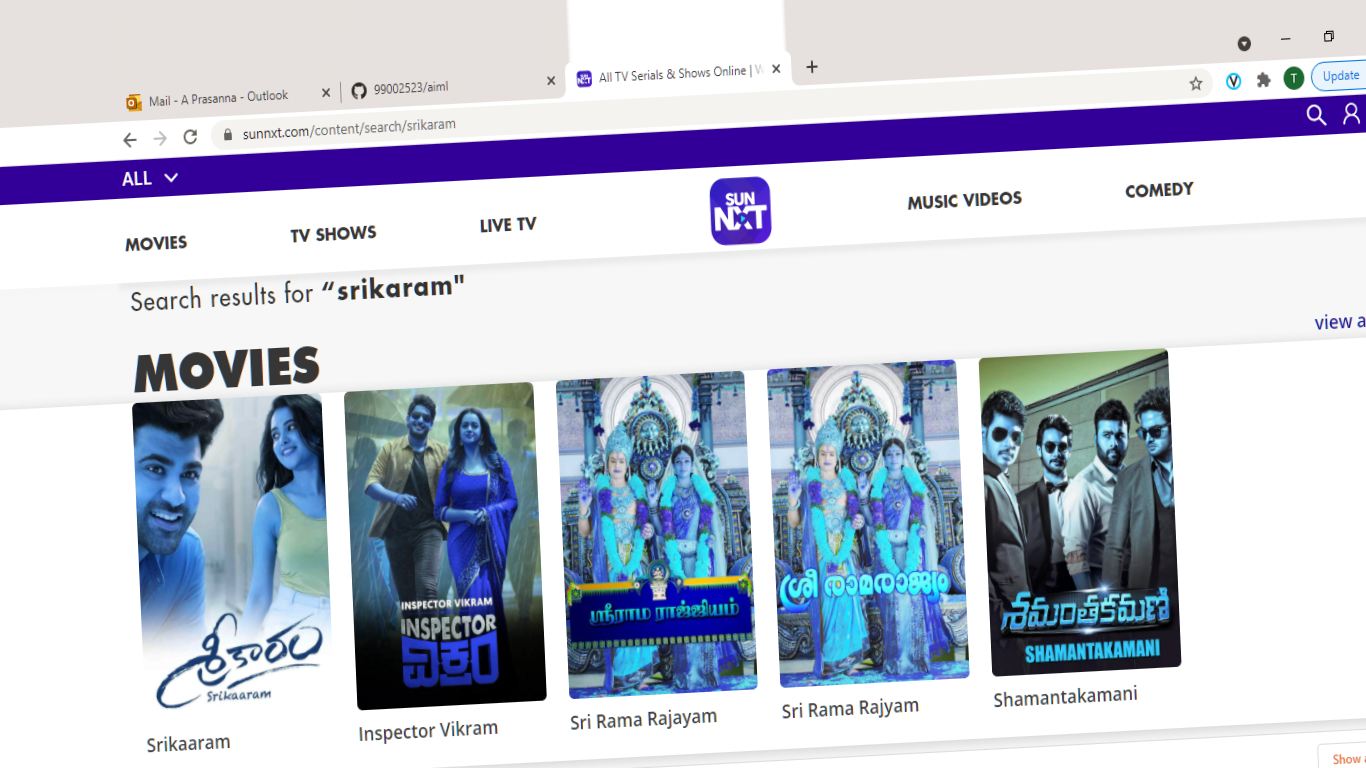profileicon: (1337, 96, 1361, 137)
resultsfound: (125, 275, 545, 338)
searchicon: (1304, 107, 1330, 131)
